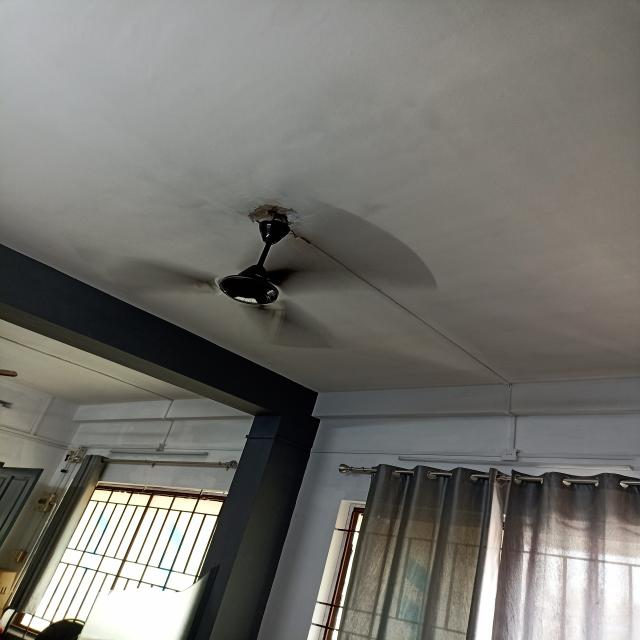fan: (102, 183, 436, 361)
